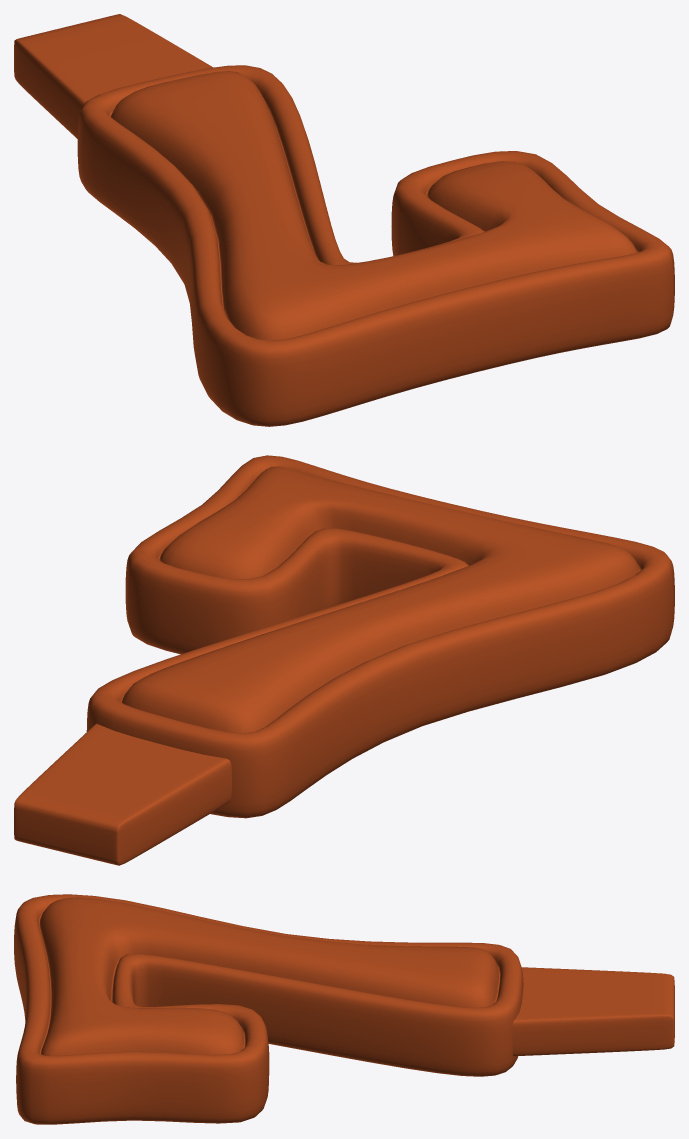
The picture shows the model from 3 angles, top to bottom: view 1: azimuth 30°, elevation 25°; view 2: azimuth 150°, elevation 25°; view 3: azimuth 270°, elevation 25°; orthographic projection. The views are drawn at different scales.
Parts seen in each view (by area): view 1: _Number_7_v1:_Number_7_v1; view 2: _Number_7_v1:_Number_7_v1; view 3: _Number_7_v1:_Number_7_v1.
Boxes of the visible parts, left/top/right/bottom form: _Number_7_v1:_Number_7_v1: left=14, top=14, right=674, bottom=426; _Number_7_v1:_Number_7_v1: left=14, top=455, right=674, bottom=865; _Number_7_v1:_Number_7_v1: left=14, top=894, right=674, bottom=1124.
Size of the model in its own units: 8.03 by 2.01 by 13.04.
